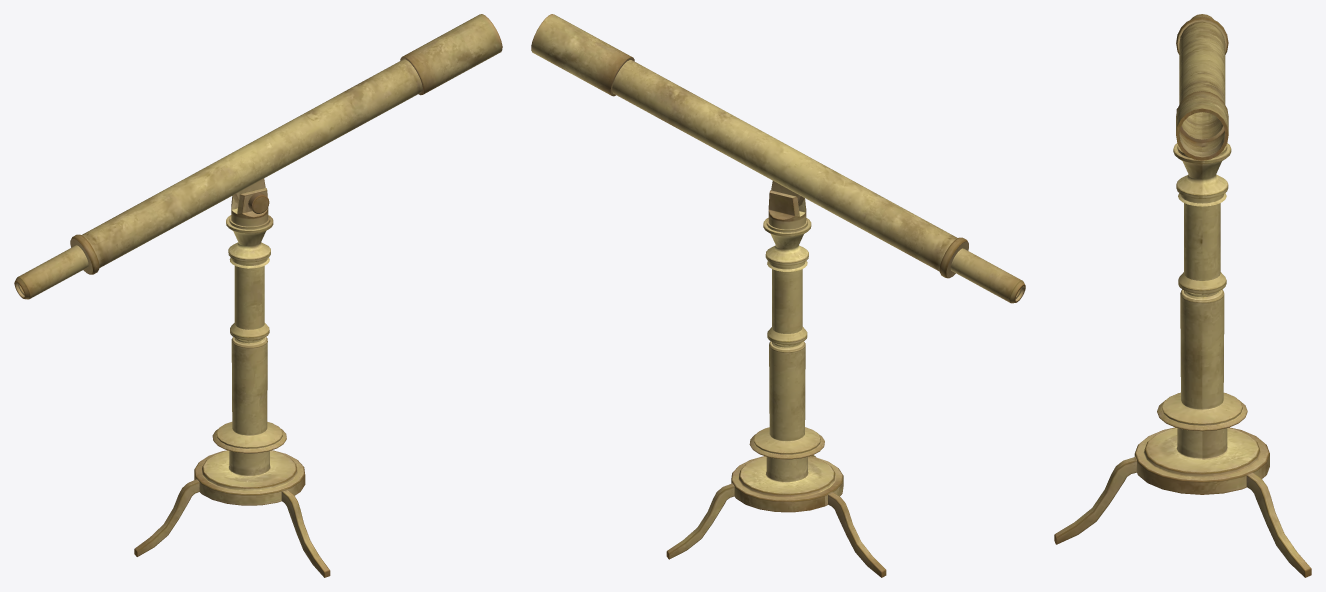
The model's file is telescope.glb.
3 views of the same model, side by side, from view 1: azimuth 30°, elevation 25°; view 2: azimuth 150°, elevation 25°; view 3: azimuth 270°, elevation 25° (orthographic). The views are drawn at different scales.
Parts seen in each view (by area): view 1: SM_Telescope_blinn1_0; view 2: SM_Telescope_blinn1_0; view 3: SM_Telescope_blinn1_0.
Boxes of the visible parts, x1,y1,x2,y2 form: SM_Telescope_blinn1_0: (14, 14, 502, 577); SM_Telescope_blinn1_0: (531, 14, 1025, 577); SM_Telescope_blinn1_0: (1054, 14, 1311, 577).
Size of what is drawn, in the model's own units: 1.5 by 1.39 by 0.5747.
1 material, 1 textured.
